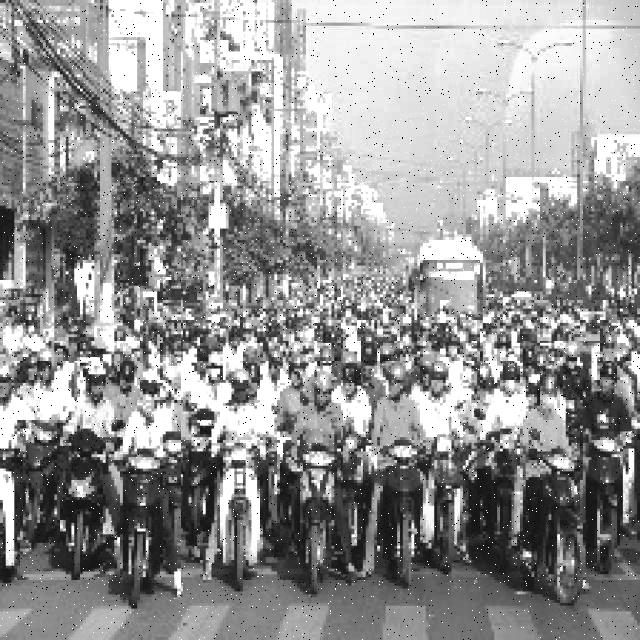Bike: (516, 437, 590, 611), (290, 441, 346, 597), (580, 407, 632, 570), (214, 433, 268, 585), (54, 426, 108, 570), (118, 441, 160, 615), (386, 437, 433, 581)
